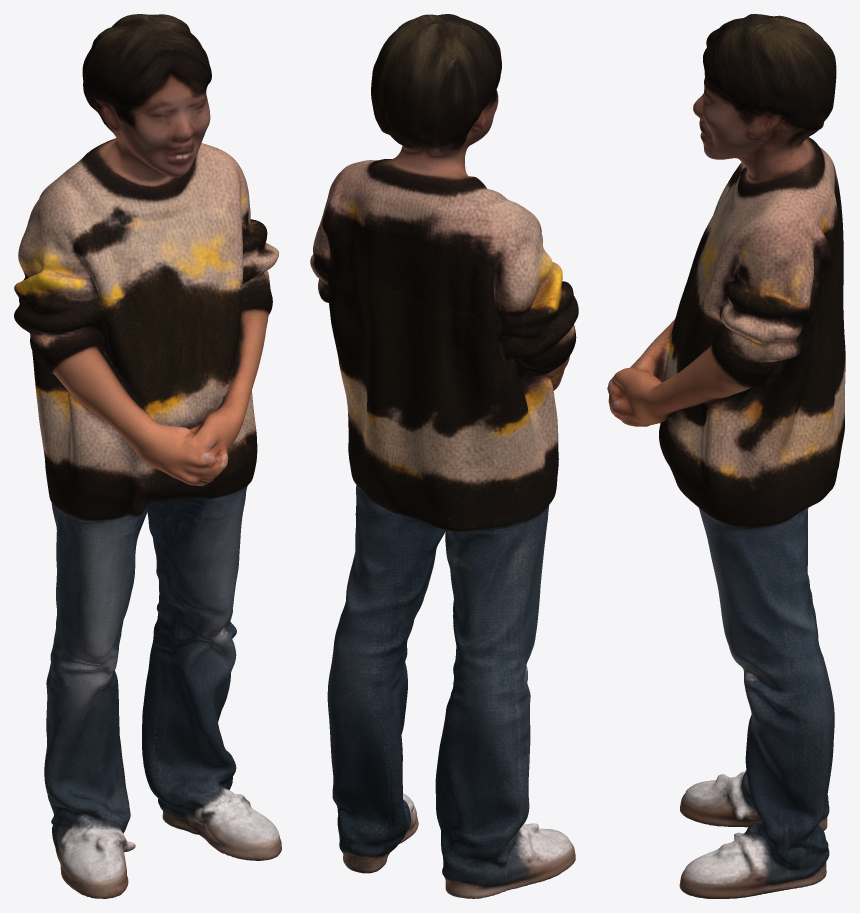
File: standing_owada.glb
The picture shows the model from 3 angles, left to right: view 1: azimuth 30°, elevation 25°; view 2: azimuth 150°, elevation 25°; view 3: azimuth 270°, elevation 25°; orthographic projection.
Parts seen in each view (by area): view 1: world; view 2: world; view 3: world.
Boxes of the visible parts, left/top/right/bottom form: world: left=14, top=14, right=281, bottom=898; world: left=310, top=14, right=578, bottom=898; world: left=607, top=14, right=845, bottom=898.
Bounding box in the file's own units: 0.3146 × 1 × 0.2596.
1 material, 1 textured.
